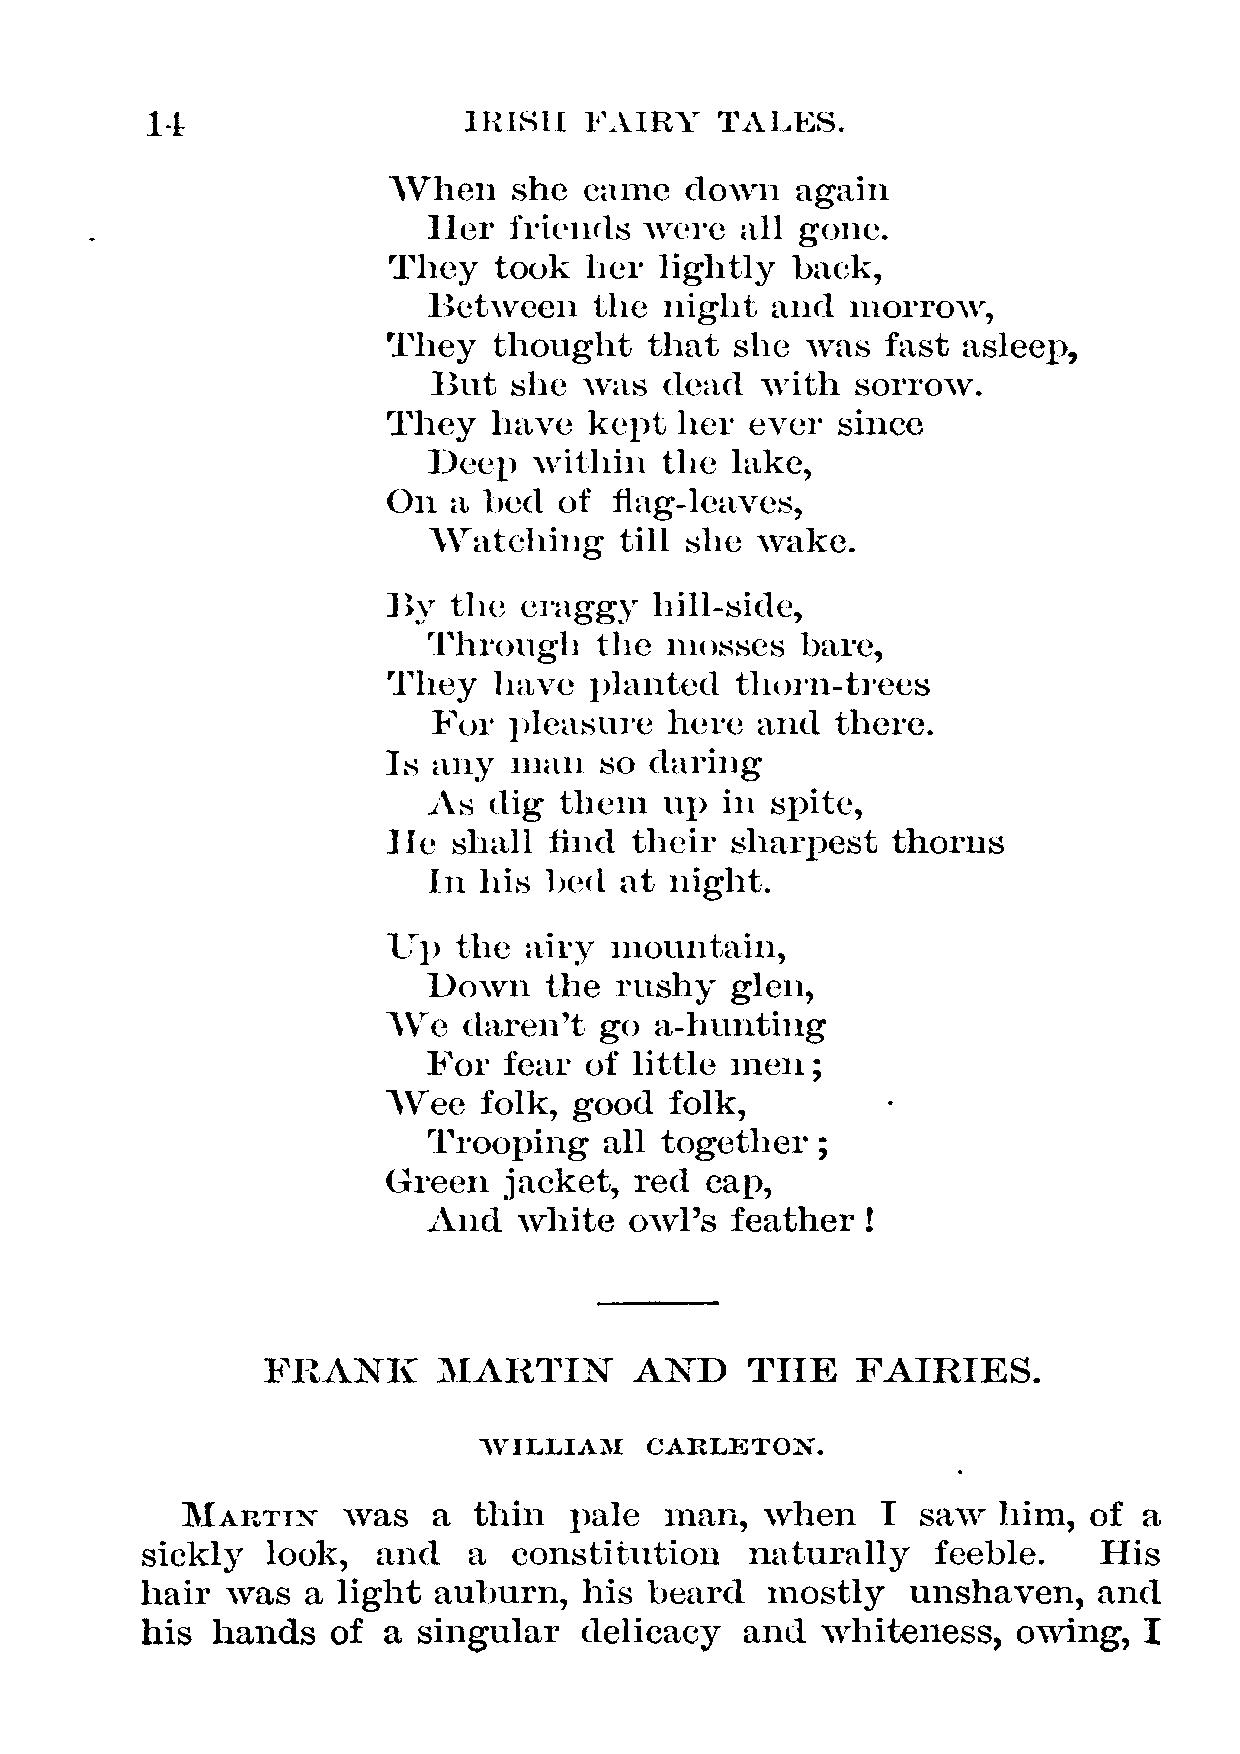chapter: (250, 1349, 1044, 1389)
content: (360, 168, 1087, 1245), (138, 1428, 1165, 1653)
content_chapter: (459, 103, 848, 136)
content_pagenumber: (132, 103, 193, 148)
